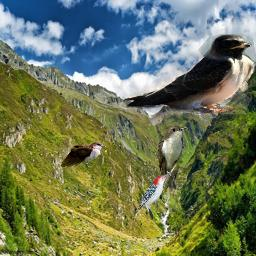Cuckoo: (158, 122, 188, 212), (60, 124, 106, 169)
Swallow: (120, 34, 256, 114)
Woodpecker: (134, 173, 171, 221)
